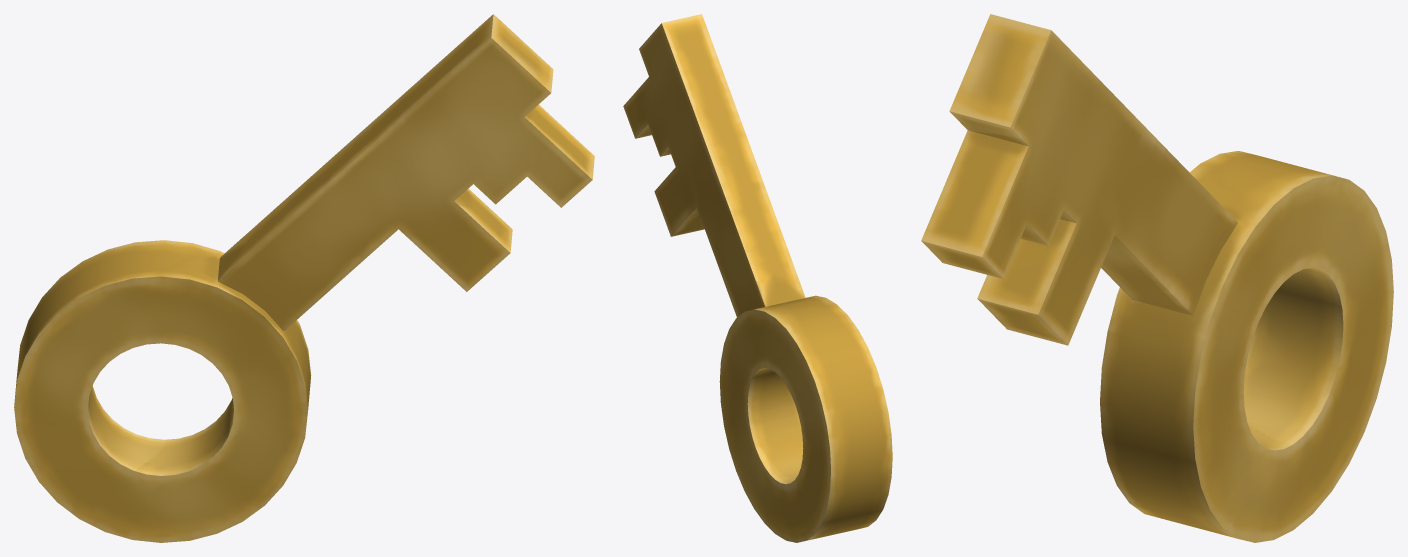
The model's file is BlueKey.fbx.
3 views of the same model, side by side, from view 1: azimuth 30°, elevation 25°; view 2: azimuth 150°, elevation 25°; view 3: azimuth 270°, elevation 25° (orthographic). The views are drawn at different scales.
Visible parts, largest first — view 1: Key; view 2: Key; view 3: Key.
Boxes of the visible parts, x1,y1,x2,y2 form: Key: (14,14,594,542); Key: (623,14,892,542); Key: (921,14,1393,542).
Size of the model in its own units: 3.59 by 3.79 by 2.51.
